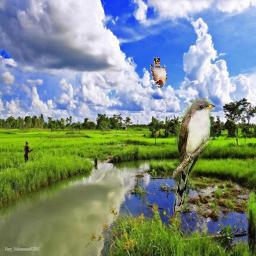Cuckoo: (173, 98, 215, 212)
Swallow: (151, 58, 168, 89)
